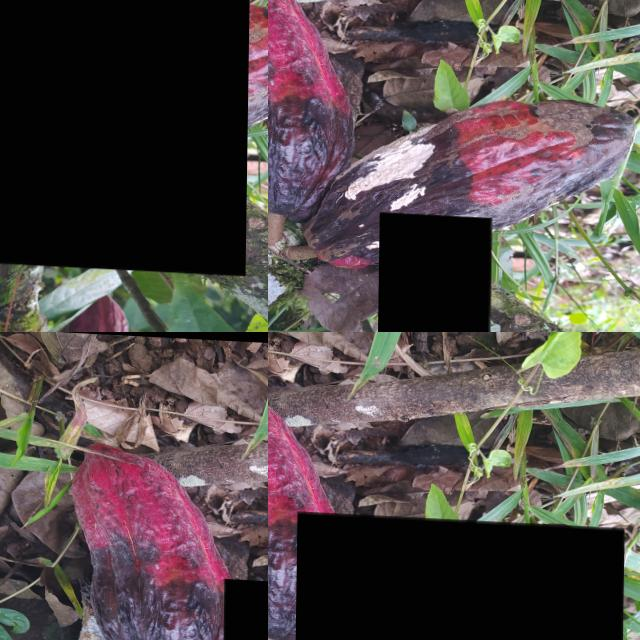Fitoftora: (268, 379, 353, 637)
Monilia: (296, 508, 625, 640)
Sana: (0, 0, 251, 270), (428, 139, 582, 315), (378, 209, 493, 332), (445, 0, 495, 19)
